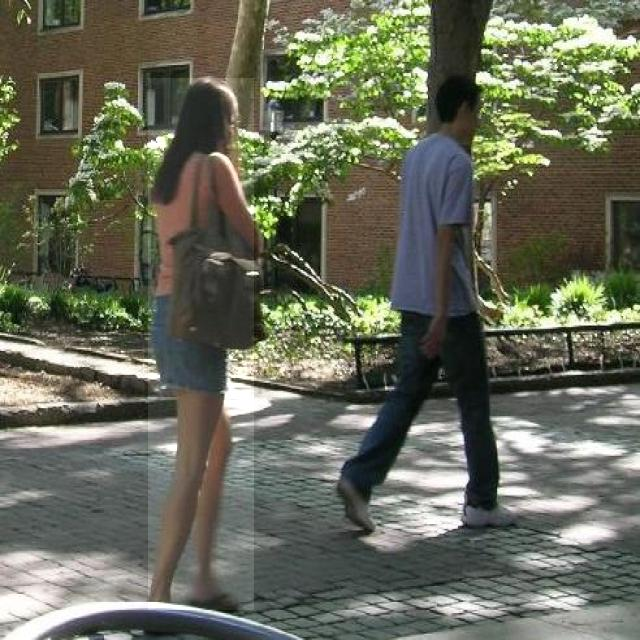with scooter: (337, 71, 528, 536), (148, 78, 254, 610)
